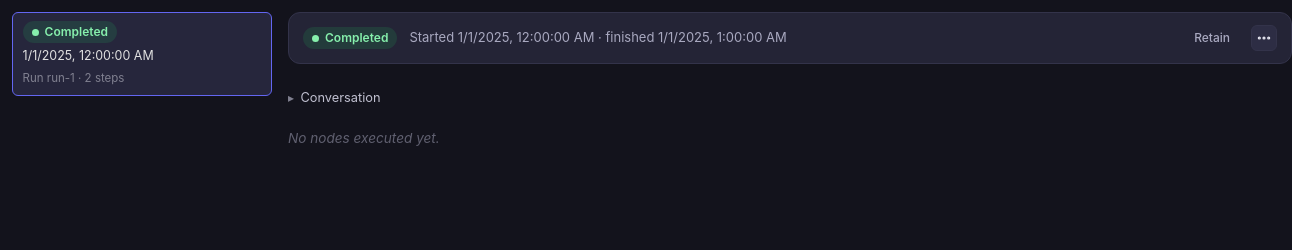
Test case: RunsPanel cleanup action › shows why a refused cleanup did not happen
Click the button named "Run actions" at {"x": 1264, "y": 38}, box left=1251, top=25, right=1277, bottom=51
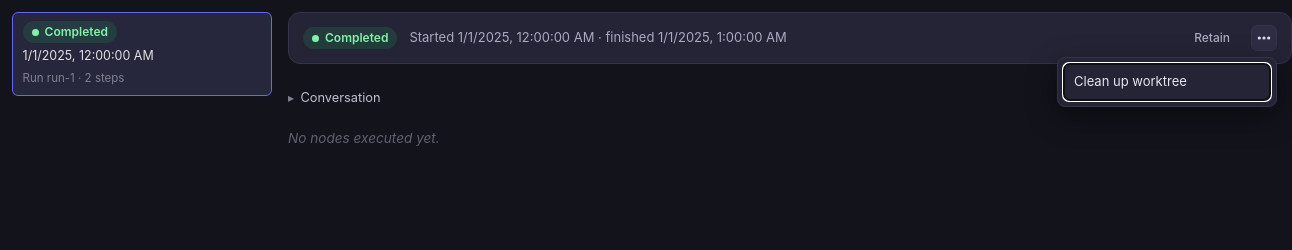
Expected: the menu item "Clean up worktree" is shown
Click the menu item "Clean up worktree" at {"x": 1167, "y": 82}, box left=1064, top=64, right=1270, bottom=100
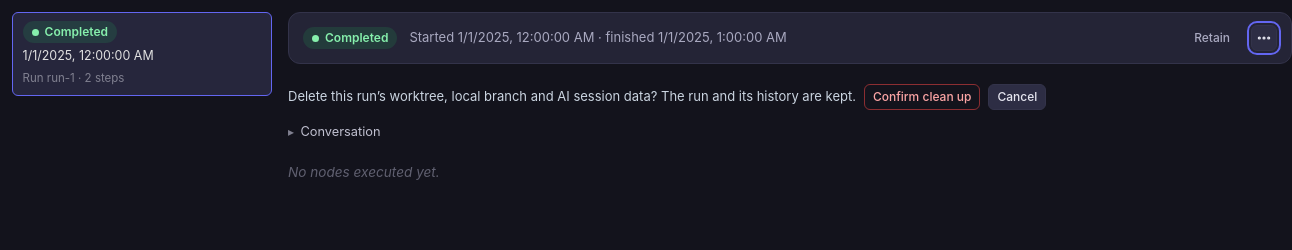
Click the button "Confirm clean up" at {"x": 922, "y": 97}, box left=864, top=84, right=980, bottom=110
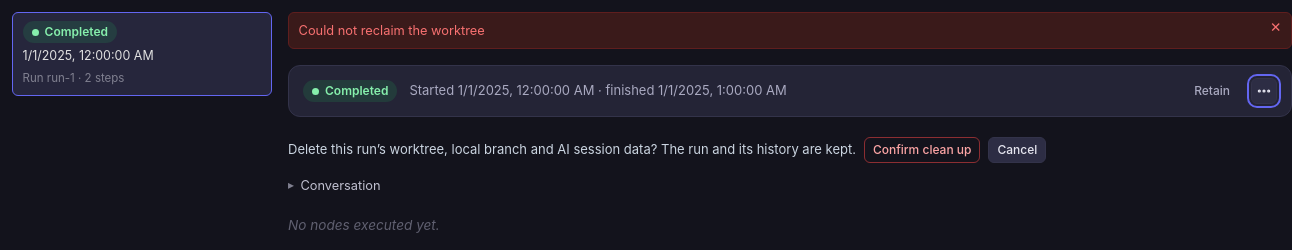
Expected: the message shows "Could not reclaim the worktree", left=299, top=23, right=485, bottom=38
